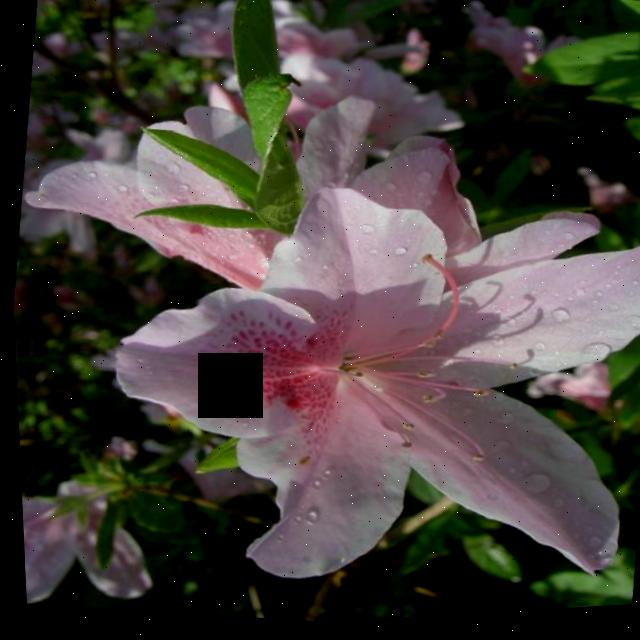azalea: (83, 120, 640, 627)
